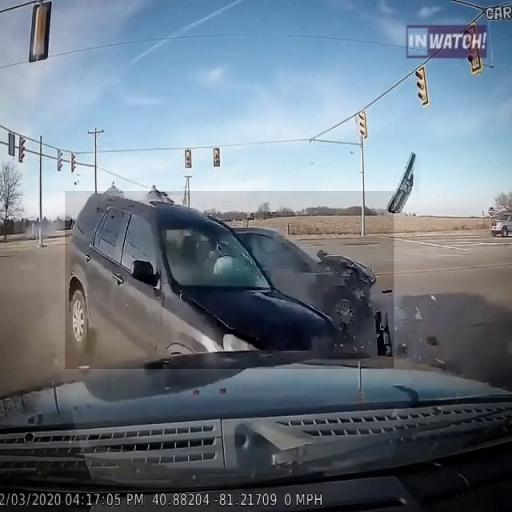小汽车撞小汽车: (65, 191, 394, 369)
